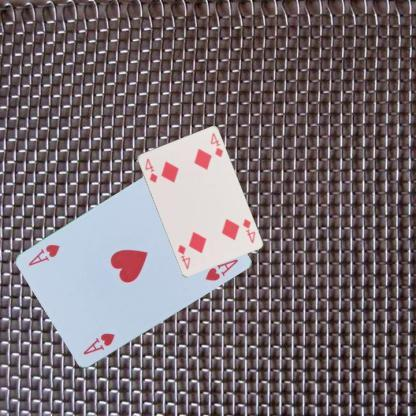4d: (142, 155, 158, 184), (240, 216, 256, 245)
Ah: (80, 330, 116, 356)
